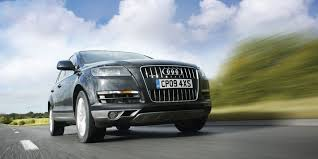number_plate: (155, 78, 198, 92)
